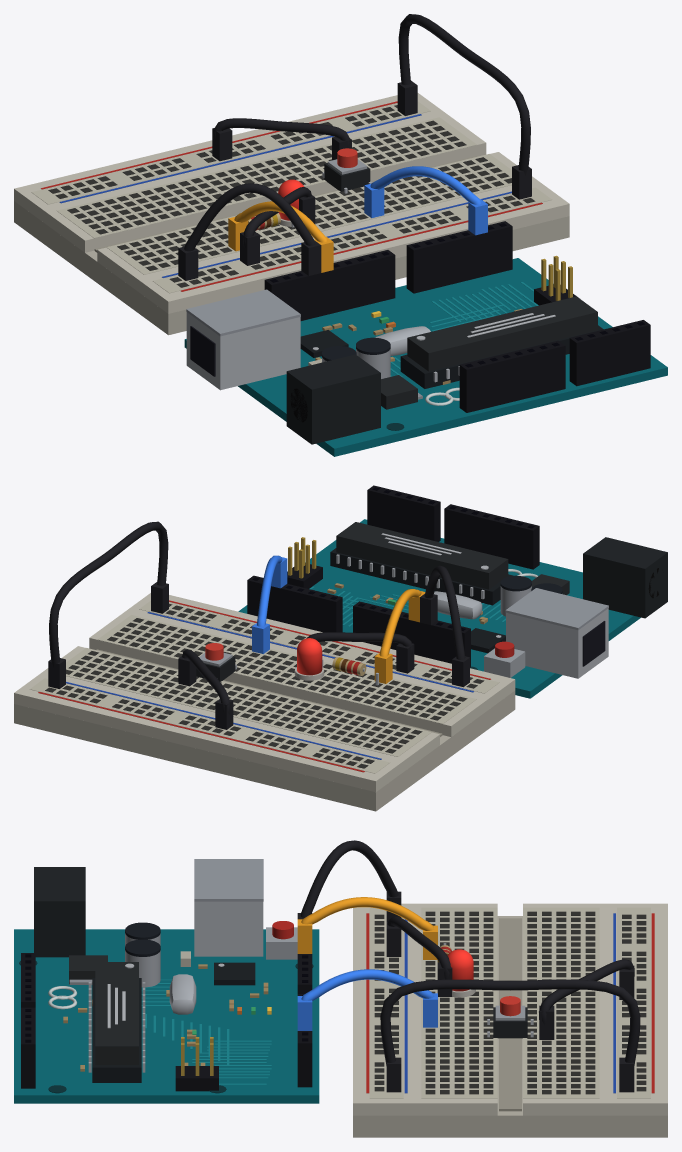
Rendered from mechatronics_button.glb.
3 views of the same model, one above another, from view 1: azimuth 30°, elevation 25°; view 2: azimuth 150°, elevation 25°; view 3: azimuth 270°, elevation 25° (orthographic). The views are drawn at different scales.
Parts seen in each view (by area): view 1: bb_body_g_geo, pcb_geo, wire_geo (×6), bb_strips_top_g_geo, bb_rails_g_geo, bb_strips_bottom_g_geo, usb_geo, mcu_geo, barrel_geo, dl_geo, bb_base_g_geo, power_geo (+7 smaller); view 2: bb_body_g_geo, wire_geo (×6), bb_strips_top_g_geo, bb_base_g_geo, bb_strips_bottom_g_geo, bb_rails_g_geo, mcu_geo, pcb_geo, usb_geo, barrel_geo, power_geo, dr_geo (+11 smaller); view 3: pcb_geo, bb_body_g_geo, wire_geo (×6), bb_strips_top_g_geo, bb_strips_bottom_g_geo, bb_rails_g_geo, bb_base_g_geo, usb_geo, mcu_geo, barrel_geo, bb_channel_g_geo, regulator_geo (+10 smaller).
Boxes of the visible parts, x1,y1,x2,y2 form: bb_body_g_geo: (14,93,569,313); pcb_geo: (184,258,667,456); wire_geo (×6): (178,14,531,280); bb_strips_top_g_geo: (57,117,476,238); bb_rails_g_geo: (31,101,551,293); bb_strips_bottom_g_geo: (106,154,511,274); usb_geo: (186,289,300,390); mcu_geo: (400,296,603,388); barrel_geo: (286,354,380,444); dl_geo: (264,250,395,320); bb_base_g_geo: (14,201,569,335); power_geo: (459,340,565,412); bb_body_g_geo: (14,593,515,791); wire_geo (×6): (48,521,469,729); bb_strips_top_g_geo: (66,648,431,756); bb_base_g_geo: (14,690,515,811); bb_strips_bottom_g_geo: (97,615,476,723); bb_rails_g_geo: (29,600,499,773); mcu_geo: (330,522,513,605); pcb_geo: (238,519,640,698); usb_geo: (505,588,608,678); barrel_geo: (583,537,667,618); power_geo: (444,504,539,569); dr_geo: (247,575,342,632); pcb_geo: (14,929,319,1103); bb_body_g_geo: (353,903,667,1115); wire_geo (×6): (297,840,640,1092); bb_strips_top_g_geo: (523,907,599,1098); bb_strips_bottom_g_geo: (421,907,497,1098); bb_rails_g_geo: (369,907,650,1098); bb_base_g_geo: (353,916,667,1137); usb_geo: (194,859,263,956); mcu_geo: (88,962,145,1082); barrel_geo: (34,867,85,957); bb_channel_g_geo: (499,918,521,1111); regulator_geo: (69,922,190,987).
Size of the model in its own units: 0.8805 by 0.2774 by 1.14.
